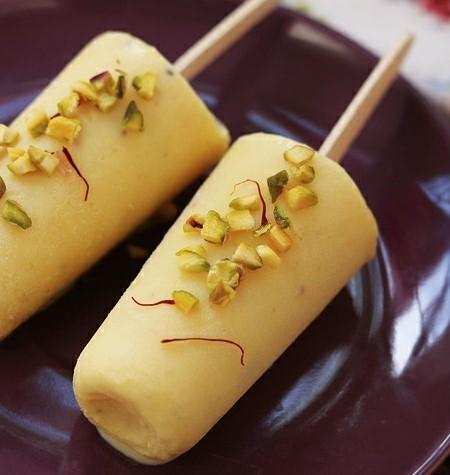Kulfi: (70, 132, 383, 465), (0, 29, 232, 339)
